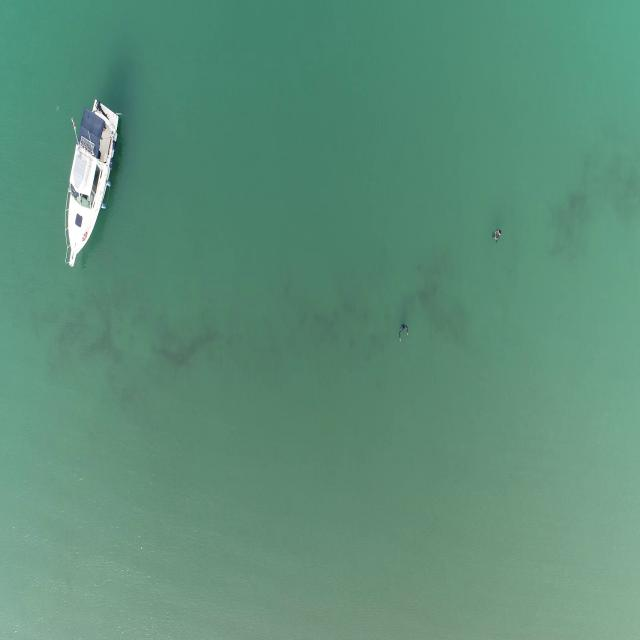boat: (60, 98, 120, 272)
person: (490, 226, 502, 252), (398, 321, 411, 344)
